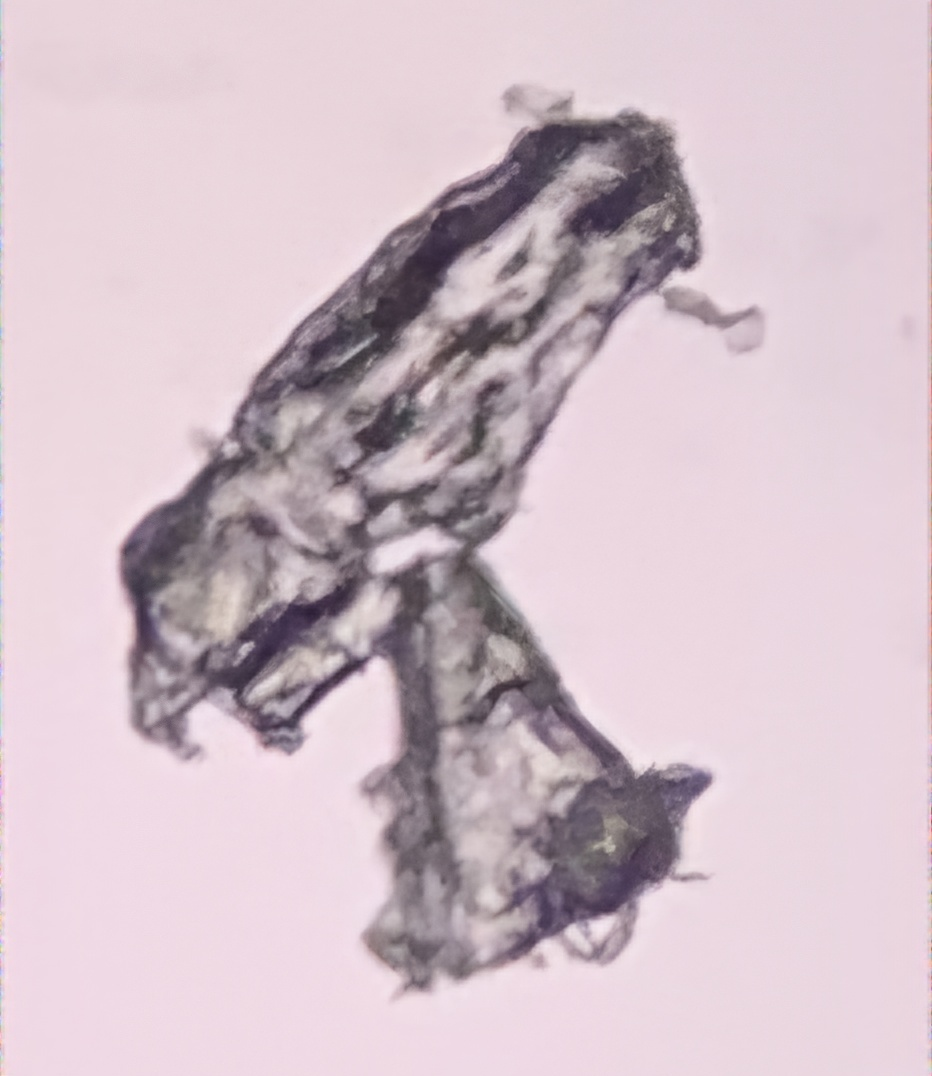microplastic: (113, 82, 788, 1006)
